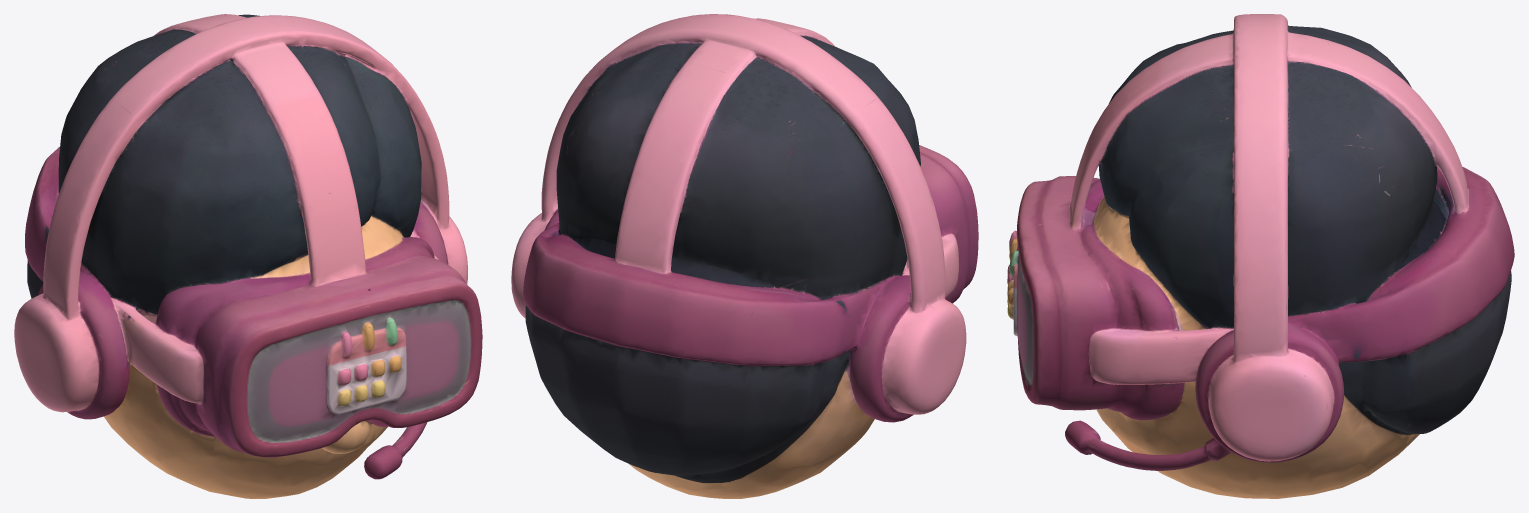
The model's file is agenda.glb.
3 renders of one model, left to right at view 1: azimuth 30°, elevation 25°; view 2: azimuth 150°, elevation 25°; view 3: azimuth 270°, elevation 25°, orthographic.
Parts seen in each view (by area): view 1: Mesh_0; view 2: Mesh_0; view 3: Mesh_0.
Boxes of the visible parts, x1,y1,x2,y2 form: Mesh_0: (14, 14, 482, 498); Mesh_0: (511, 14, 978, 498); Mesh_0: (1007, 14, 1514, 498).
Bounding box in the file's own units: 1.78 × 1.87 × 1.91.
1 material, 1 textured.
